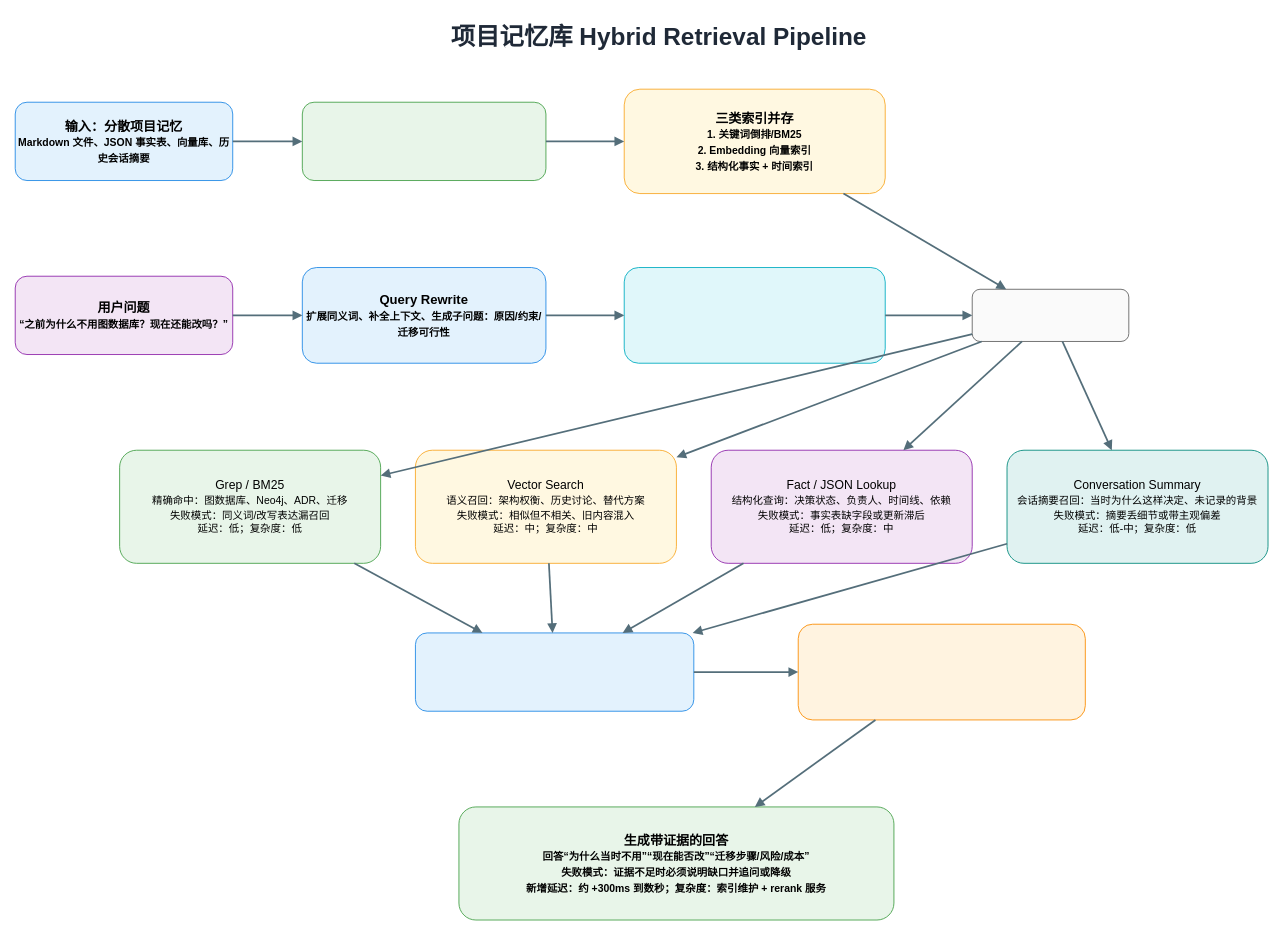
Some shapes in this 1283 by 935 pixel diagram are drawn without their labels. The centre of each missing label's shape, as x and y in pixels:
"Rerank + Top-K 交叉编码器/LLM 打分：相关性、时效性、来源可信度、多样性 Top-K 建议：8-12 条核心证据 + 3 条反例/风险" belongs at point (941, 671).
"Time / Scope Filter 按项目、版本、决策日期、最近变更过滤，避免引用过期记忆" belongs at point (754, 315).
"合并、去重、证据归一 按 chunk/source 合并；保留引用、时间戳、置信度、召回路径" belongs at point (554, 671).
"并行召回" belongs at point (1050, 314).
"离线索引与标准化 切块、去重、抽取元数据：项目/文件/时间/主题/来源" belongs at point (423, 141).
